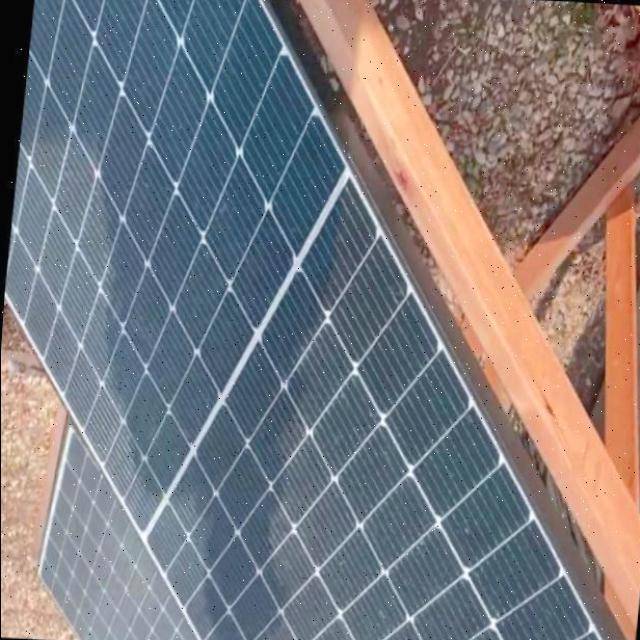Normal Solar Panel: (0, 0, 640, 640), (31, 428, 258, 640)
